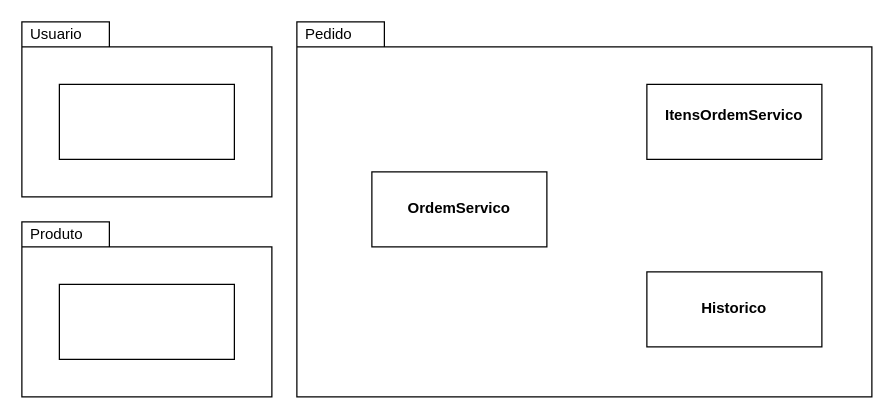
This 894x419 diagram has some shape labels left out. Each missing label, with the box of its shape:
Pessoa: (58, 83, 234, 159)
ServicoProduto: (58, 283, 234, 359)
